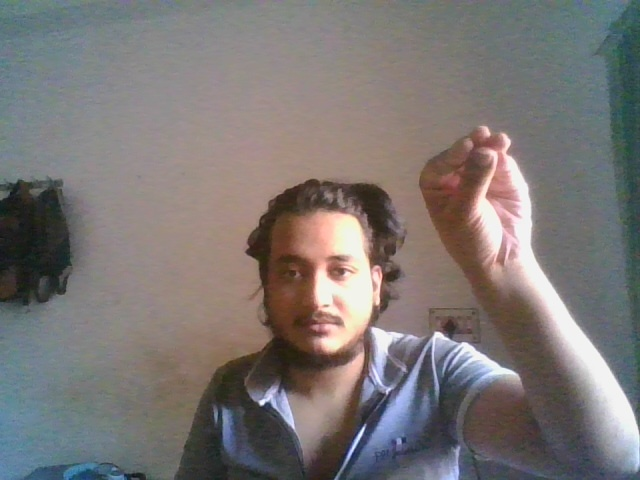Mouth: (418, 125, 538, 263)
